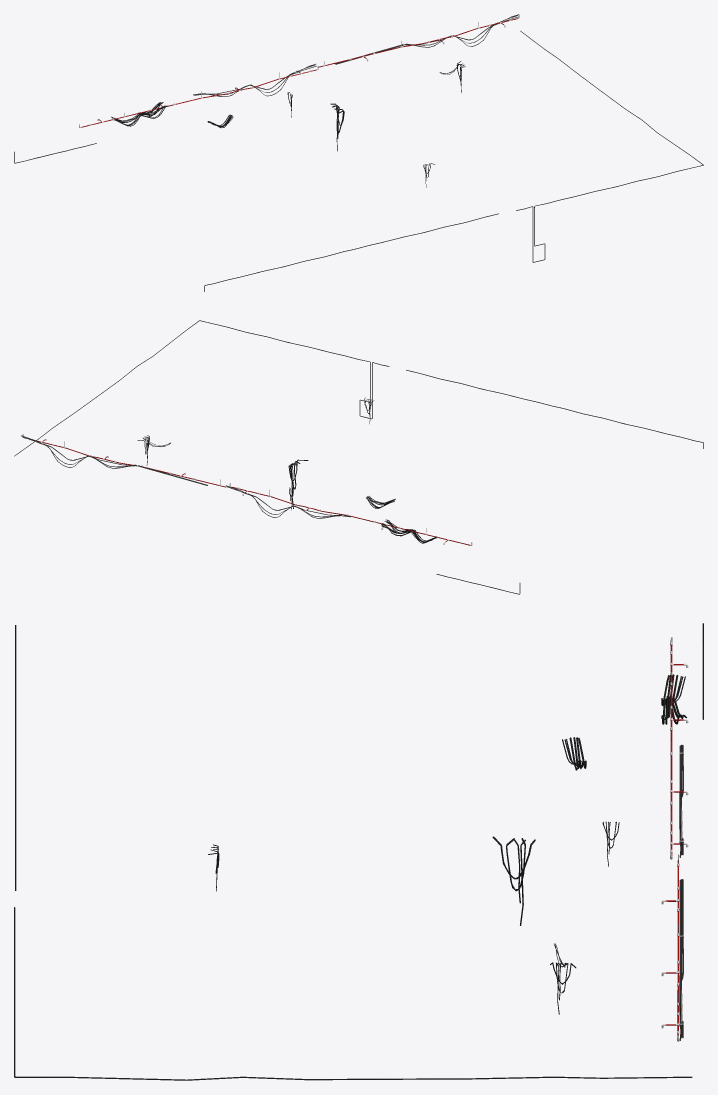
File: SM_H_Building_Tide_Examinationroom_04A_ATLAS.fbx
3 views of the same model, one above another, from view 1: azimuth 30°, elevation 25°; view 2: azimuth 150°, elevation 25°; view 3: azimuth 270°, elevation 25° (orthographic). The views are drawn at different scales.
Parts seen in each view (by area): view 1: SM_H_Building_Tide_Examinationroom_04A_ATLAS_LOD0; view 2: SM_H_Building_Tide_Examinationroom_04A_ATLAS_LOD0; view 3: SM_H_Building_Tide_Examinationroom_04A_ATLAS_LOD0.
Part boxes in pixels (left/top/right/bottom): SM_H_Building_Tide_Examinationroom_04A_ATLAS_LOD0: left=14, top=14, right=703, bottom=291; SM_H_Building_Tide_Examinationroom_04A_ATLAS_LOD0: left=14, top=320, right=703, bottom=594; SM_H_Building_Tide_Examinationroom_04A_ATLAS_LOD0: left=14, top=623, right=703, bottom=1080.
Bounding box in the file's own units: 2310 × 1482 × 346.
